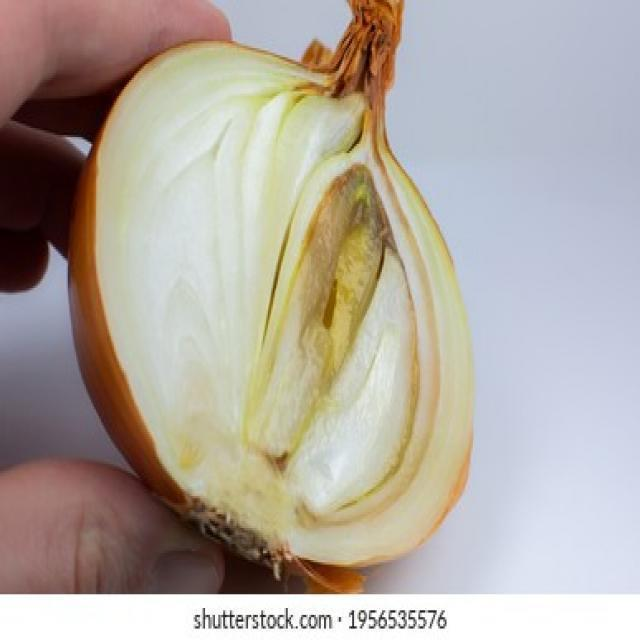Onion: (66, 0, 476, 595)
